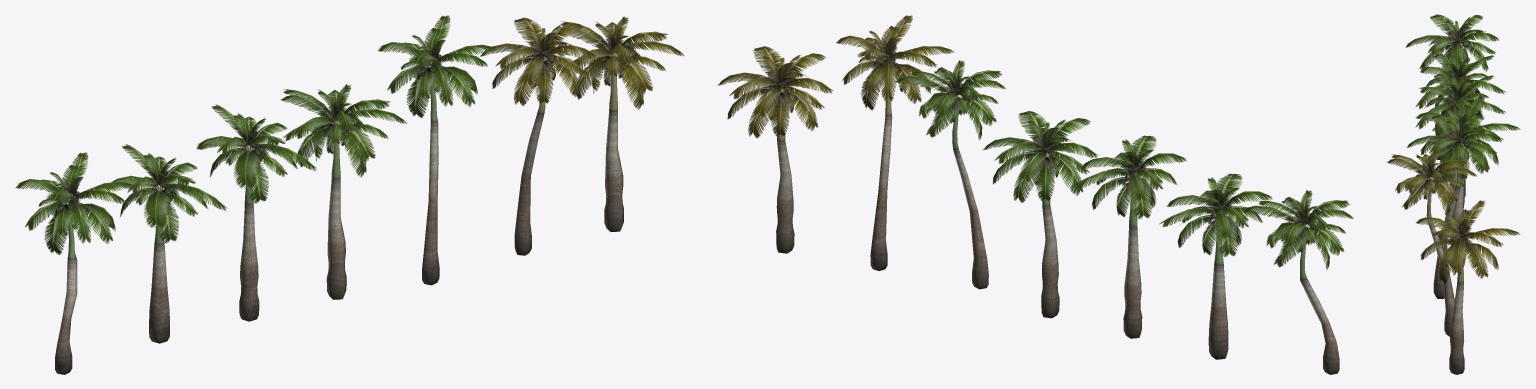
Rendered from beach_palms.glb.
3 renders of one model, left to right at view 1: azimuth 30°, elevation 25°; view 2: azimuth 150°, elevation 25°; view 3: azimuth 270°, elevation 25°, orthographic. The views are drawn at different scales.
Parts seen in each view (by area): view 1: Palm1_VAR4, Palm1_VAR5, Palm1_VARCol2, Palm1_VARCol1, Palm1_VAR1, Palm1_VAR3, Palm1_VAR2; view 2: Palm1_VARCol2, Palm1_VAR4, Palm1_VARCol1, Palm1_VAR3, Palm1_VAR2, Palm1_VAR5, Palm1_VAR1; view 3: Palm1_VARCol2, Palm1_VARCol1, Palm1_VAR5, Palm1_VAR1, Palm1_VAR4, Palm1_VAR3, Palm1_VAR2.
Part boxes in pixels (box(x1,y1,x2,y2)): Palm1_VAR4: box(280, 84, 406, 299); Palm1_VAR5: box(378, 15, 496, 285); Palm1_VARCol2: box(560, 16, 684, 231); Palm1_VARCol1: box(480, 17, 596, 255); Palm1_VAR1: box(15, 152, 132, 374); Palm1_VAR3: box(196, 104, 317, 321); Palm1_VAR2: box(108, 144, 227, 343); Palm1_VARCol2: box(717, 46, 833, 253); Palm1_VAR4: box(983, 111, 1098, 318); Palm1_VARCol1: box(836, 15, 954, 270); Palm1_VAR3: box(1073, 135, 1186, 338); Palm1_VAR2: box(1159, 173, 1272, 359); Palm1_VAR5: box(895, 60, 1006, 289); Palm1_VAR1: box(1242, 190, 1353, 374); Palm1_VARCol2: box(1416, 200, 1520, 374); Palm1_VARCol1: box(1387, 149, 1477, 336); Palm1_VAR5: box(1406, 114, 1500, 298); Palm1_VAR1: box(1405, 14, 1498, 159); Palm1_VAR4: box(1416, 95, 1520, 268); Palm1_VAR3: box(1415, 74, 1506, 218); Palm1_VAR2: box(1415, 53, 1506, 196).
Bounding box in the file's own units: 19.3 × 6.68 × 4.49.
Materials: 2 (2 with a texture image).
